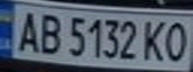1: (84, 15, 106, 58)
2: (118, 16, 142, 61)
3: (103, 16, 124, 60)
5: (63, 14, 87, 57)
A: (12, 8, 42, 53)
B: (33, 10, 63, 55)
K: (139, 17, 169, 63)
O: (160, 18, 193, 63)
